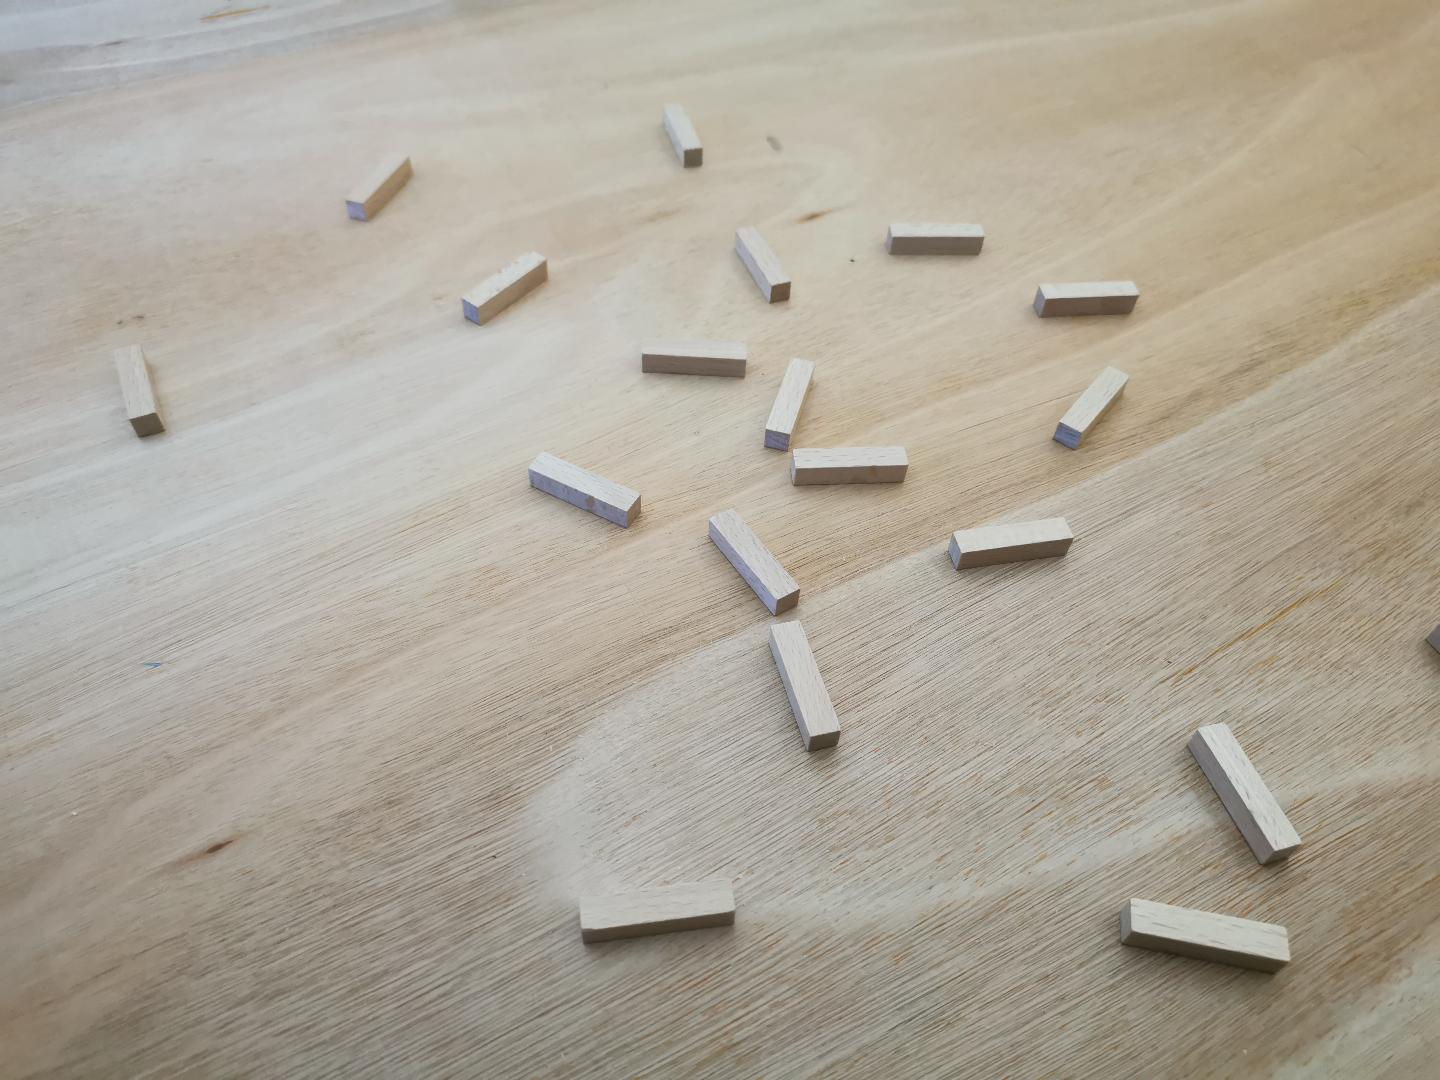jenga: (1187, 723, 1299, 863), (1119, 897, 1291, 973), (579, 880, 734, 943), (709, 509, 798, 616), (771, 622, 841, 751), (528, 453, 642, 526), (948, 517, 1075, 568), (461, 253, 549, 323), (1054, 365, 1128, 447), (112, 346, 166, 436), (790, 447, 908, 487), (765, 357, 815, 450), (346, 154, 414, 219), (734, 228, 790, 304), (1032, 281, 1140, 318), (642, 340, 745, 377), (886, 222, 984, 256), (663, 104, 703, 169)
